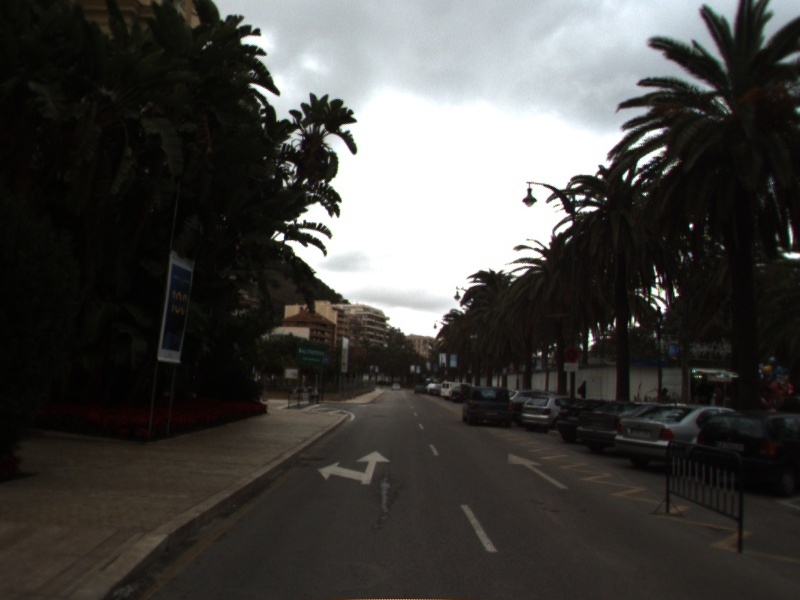STRAIGHT: (505, 451, 571, 491)
STRAIGHT_LEFT: (314, 448, 394, 487)
